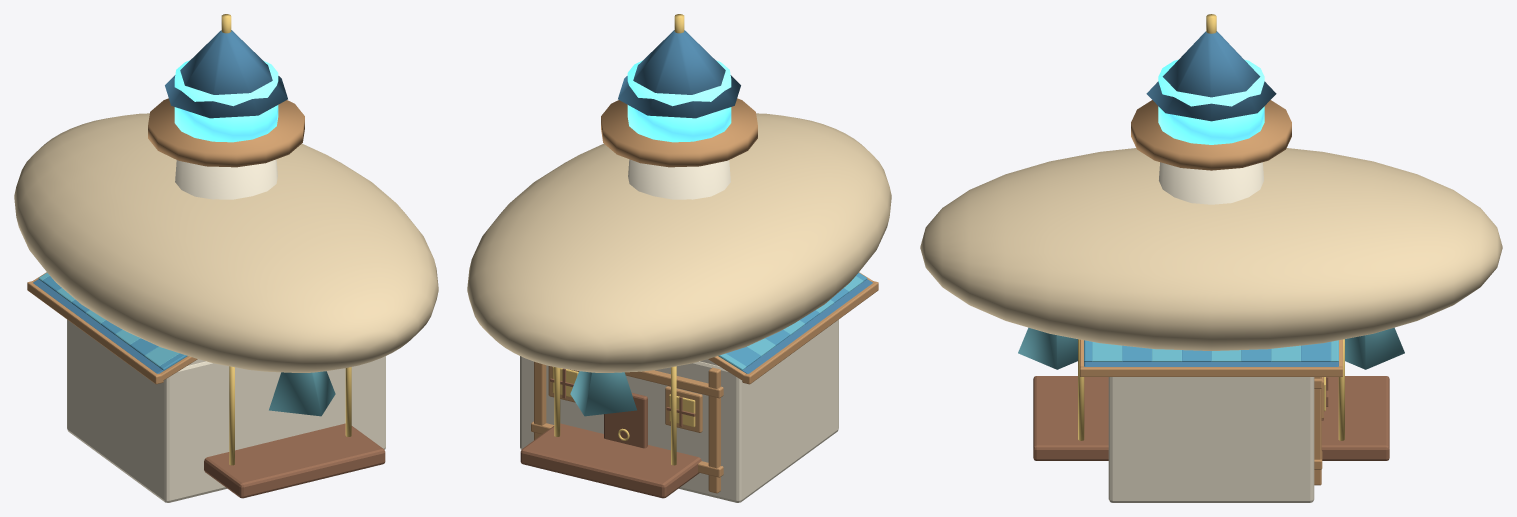
The model's file is fantasy_assets.glb.
The picture shows the model from 3 angles, left to right: view 1: azimuth 30°, elevation 25°; view 2: azimuth 150°, elevation 25°; view 3: azimuth 270°, elevation 25°; orthographic projection.
Parts seen in each view (by area): view 1: Airship_Balloon, House_Wall, Airship_Deck, Lighthouse_Roof, Lighthouse_Gallery, Lighthouse_Lantern, Lighthouse_Tower, Airship_Fin.001, House_Eave_Fascia, House_Roof_Slope, Airship_Mast.001, Airship_Mast.003; view 2: Airship_Balloon, House_Wall, Airship_Deck, Lighthouse_Roof, Lighthouse_Gallery, Lighthouse_Lantern, Lighthouse_Tower, Airship_Fin, House_Eave_Fascia, House_Door, House_VerticalBeam, House_Roof_Slope (+7 smaller); view 3: Airship_Balloon, House_Wall, Airship_Deck, Lighthouse_Roof, Lighthouse_Gallery, Lighthouse_Lantern, Lighthouse_Tower, House_Eave_Fascia.001, Airship_Fin, Airship_Fin.001, House_Roof_Slope.001, House_VerticalBeam.001.
Boxes of the visible parts, x1,y1,x2,y2 form: Airship_Balloon: (14, 113, 438, 372); House_Wall: (67, 319, 385, 502); Airship_Deck: (204, 423, 385, 498); Lighthouse_Roof: (165, 30, 287, 118); Lighthouse_Gallery: (148, 98, 304, 167); Lighthouse_Lantern: (174, 60, 278, 142); Lighthouse_Tower: (175, 159, 277, 199); Airship_Fin.001: (269, 371, 335, 416); House_Eave_Fascia: (27, 281, 163, 384); House_Roof_Slope: (33, 279, 163, 373); Airship_Mast.001: (229, 366, 234, 465); Airship_Mast.003: (345, 367, 351, 436); Airship_Balloon: (467, 113, 891, 372); House_Wall: (520, 319, 838, 502); Airship_Deck: (520, 423, 701, 498); Lighthouse_Roof: (618, 30, 740, 118); Lighthouse_Gallery: (601, 98, 757, 167); Lighthouse_Lantern: (627, 60, 731, 142); Lighthouse_Tower: (628, 159, 730, 199); Airship_Fin: (570, 371, 636, 416); House_Eave_Fascia: (742, 281, 878, 384); House_Door: (604, 393, 647, 448); House_VerticalBeam: (708, 367, 720, 493); House_Roof_Slope: (742, 279, 872, 373); Airship_Balloon: (920, 148, 1502, 350); House_Wall: (1108, 377, 1314, 502); Airship_Deck: (1033, 376, 1389, 460); Lighthouse_Roof: (1146, 31, 1276, 121); Lighthouse_Gallery: (1131, 100, 1291, 170); Lighthouse_Lantern: (1158, 59, 1264, 144); Lighthouse_Tower: (1159, 162, 1263, 204); House_Eave_Fascia.001: (1080, 366, 1342, 376); Airship_Fin: (1345, 327, 1404, 369); Airship_Fin.001: (1018, 327, 1077, 369); House_Roof_Slope.001: (1084, 361, 1338, 366); House_VerticalBeam.001: (1314, 377, 1321, 485).
Size of the model in its own units: 10.8 by 14.65 by 17.
